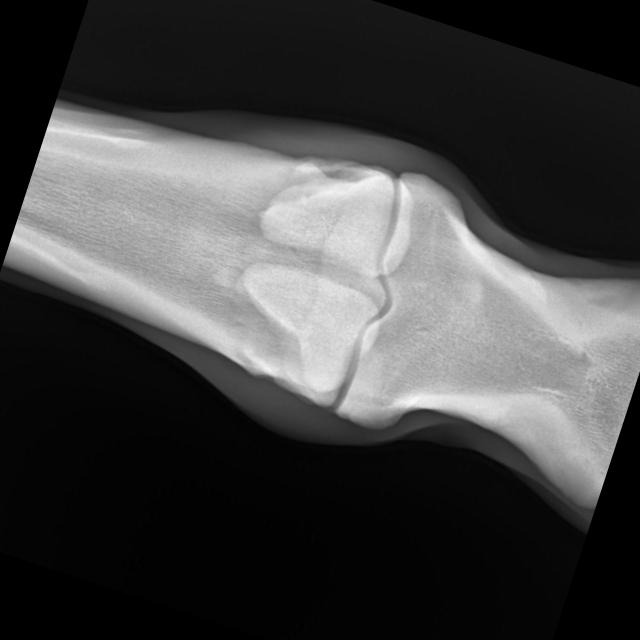joint-ht8A: (130, 76, 558, 504)
